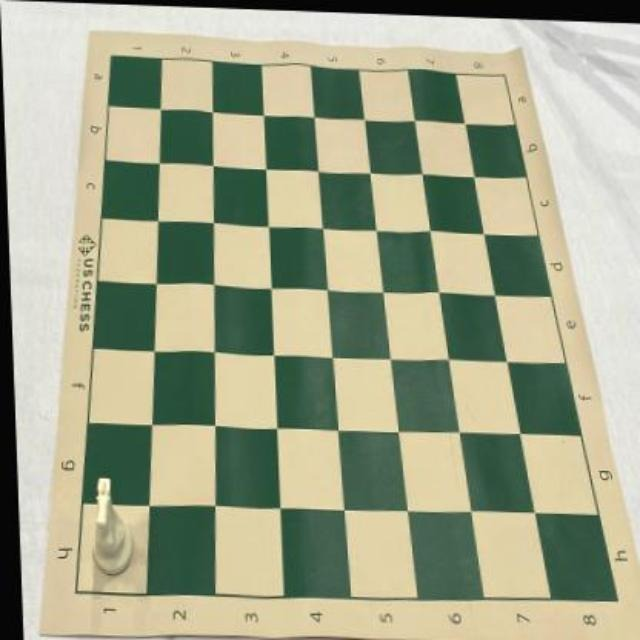white-knight: (85, 478, 131, 578)
